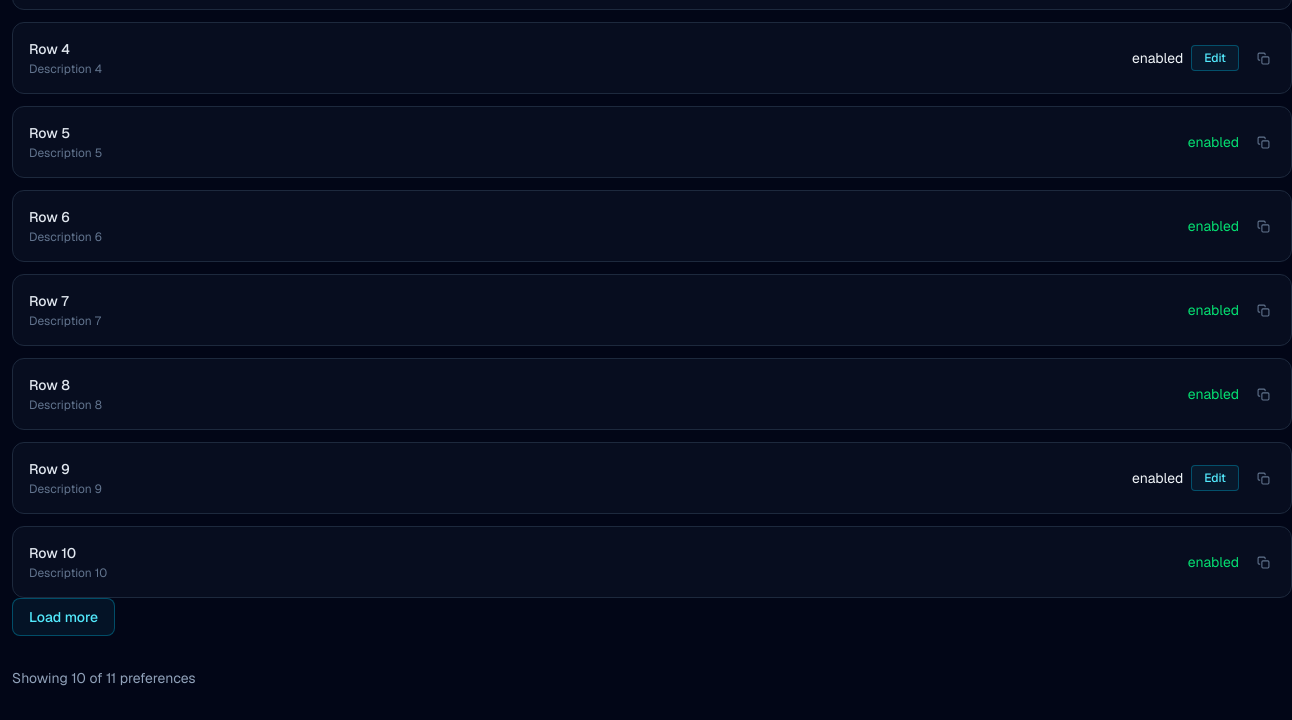
Scenario: SettingsPage – end-of-list behavior › shows the end-of-list hint after the user advanced past page 1 and reached the end
(page scrolled)
Step 1. Click the button with test id "settings-load-more" → (64, 617), box [12,598,115,636]
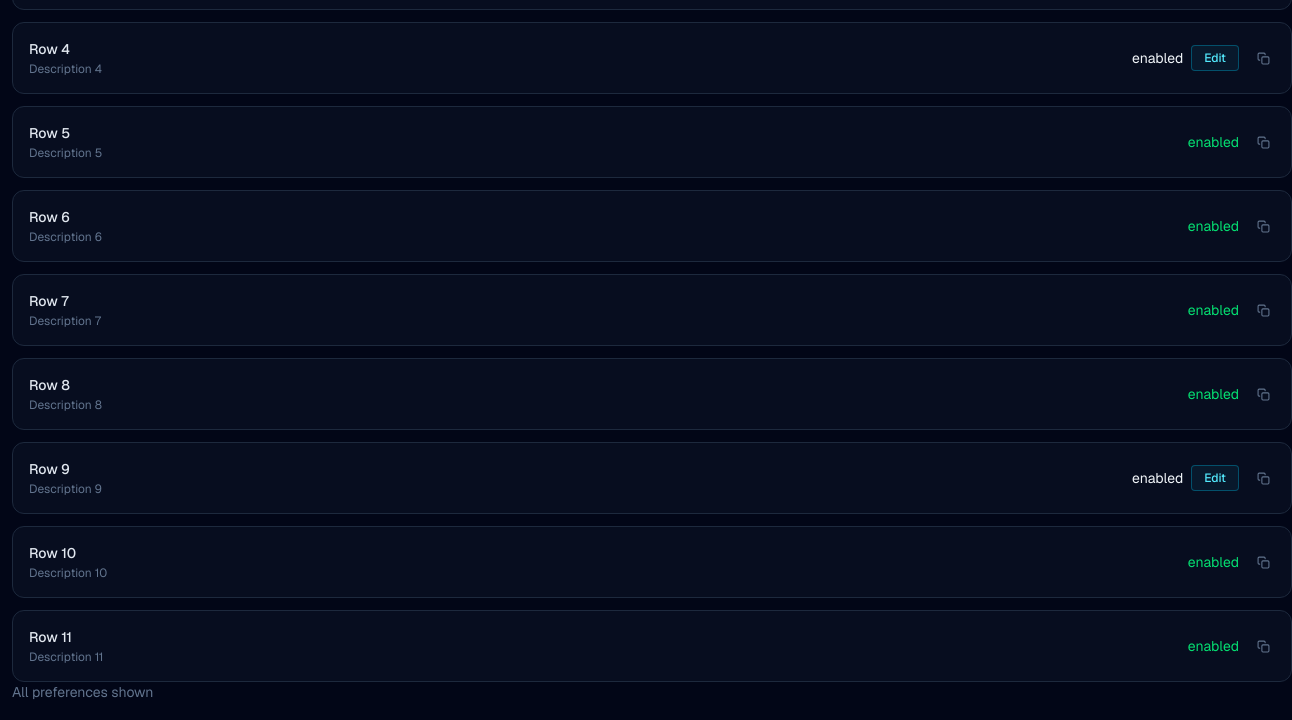
Expected: the text "All preferences shown" is shown, [12,682,153,702]
